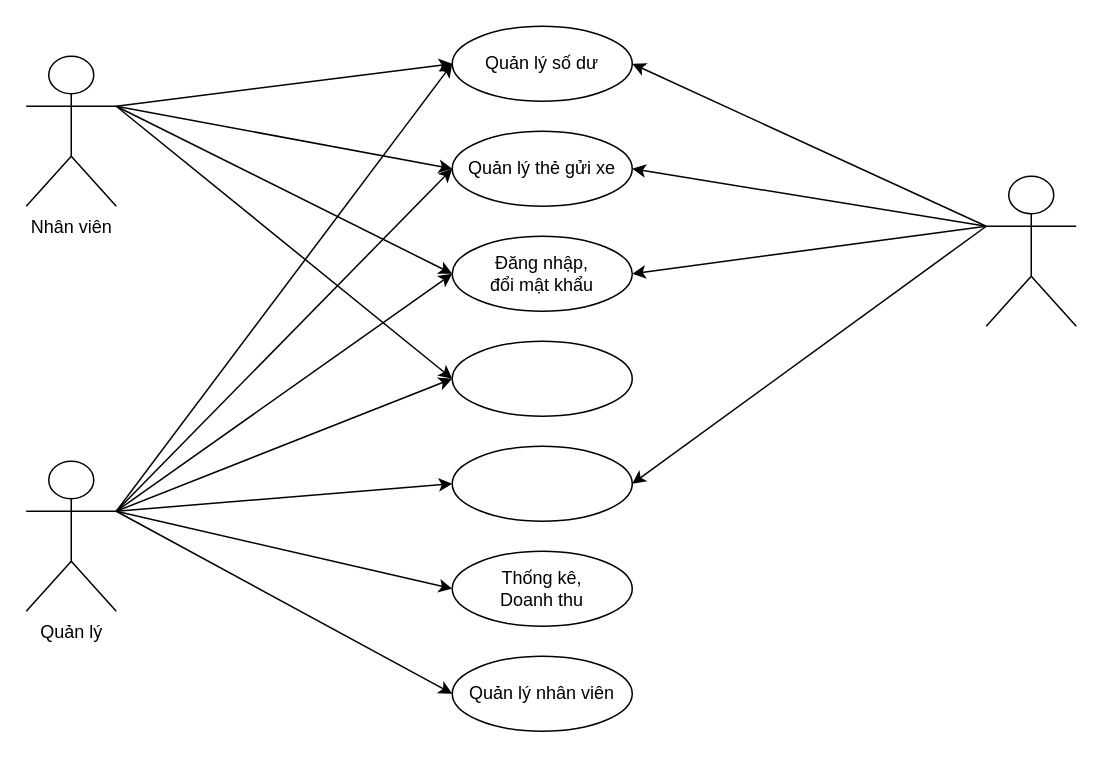
This 1106x758 diagram has some shape labels left out. Each missing label, with the centre of its shape:
"Hóa đơn" belongs at pixel 541 378.
"Khách hàng" belongs at pixel 1030 250.
"Đăng ký tài khoản" belongs at pixel 541 483.
